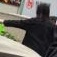hard-hat: (28, 0, 57, 28)
